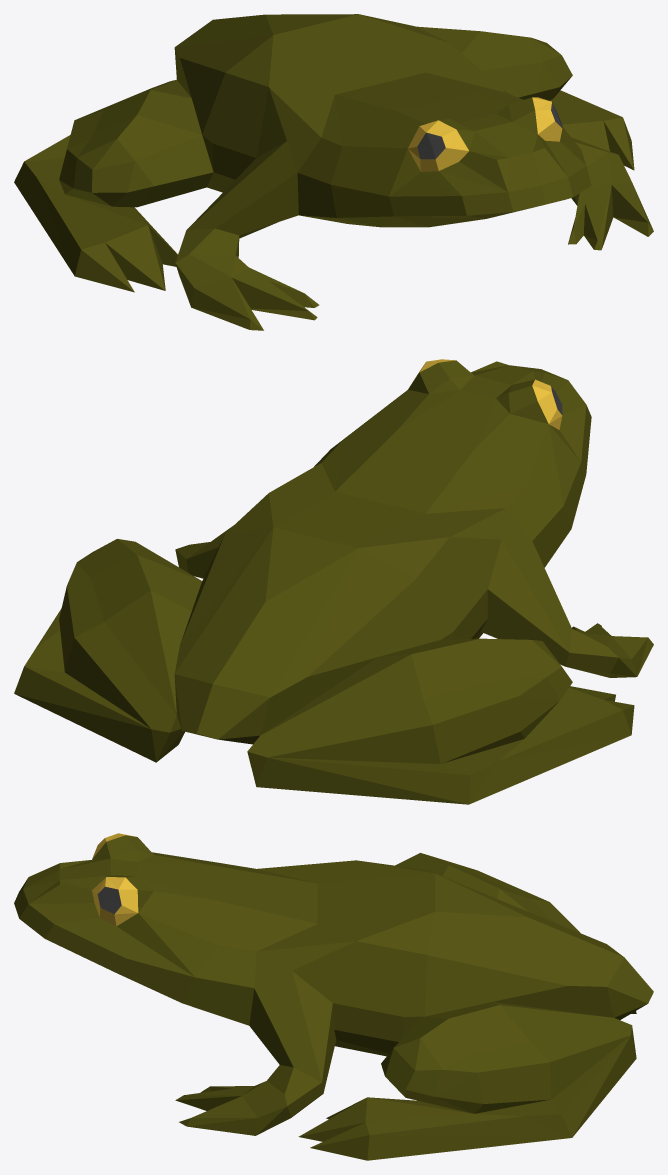
The model's file is frog.glb.
The picture shows the model from 3 angles, top to bottom: view 1: azimuth 30°, elevation 25°; view 2: azimuth 150°, elevation 25°; view 3: azimuth 270°, elevation 25°; orthographic projection. The views are drawn at different scales.
Visible parts, largest first — view 1: Frog; view 2: Frog; view 3: Frog.
Part boxes in pixels (bbox=[...]): Frog: bbox=[14, 14, 653, 330]; Frog: bbox=[14, 359, 653, 804]; Frog: bbox=[14, 833, 653, 1160].
Size of the model in its own units: 15.77 by 5.32 by 17.13.
